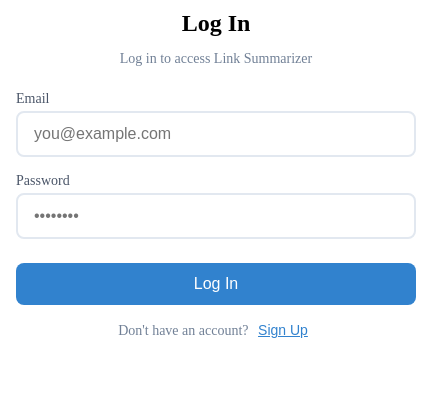
Test: LoginForm › shows network error on fetch failure
Type "alice@example.com" into the field labelled "Email" at (216, 134), box [16,111,416,157]
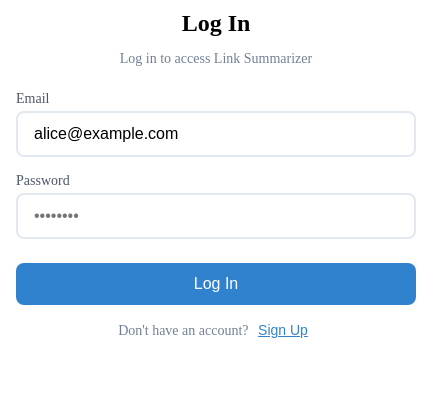
Type "password123" into the password field labelled "Password" at (216, 216), box [16,193,416,239]
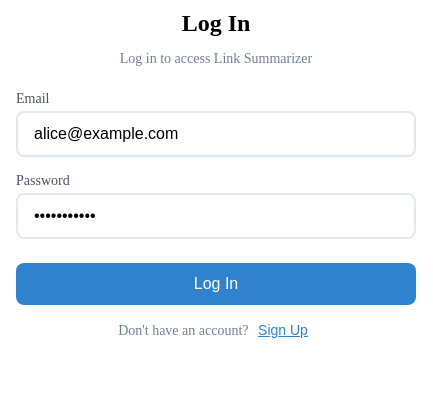
Click the button "Log In" at (216, 284), box [16,263,416,305]
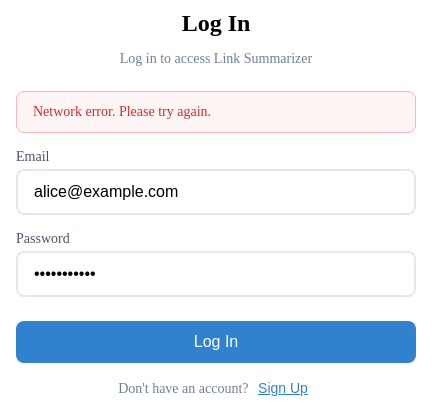
Expected: the message shows "Network error", [33,104,211,119]
